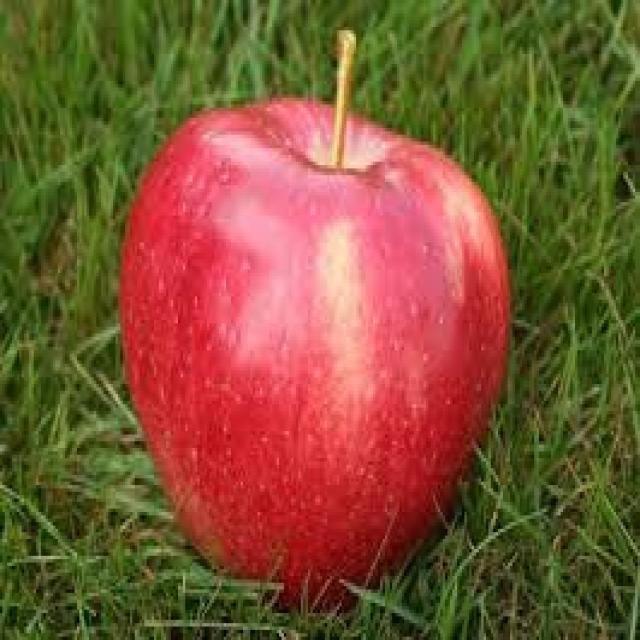Apple: (114, 90, 506, 603)
